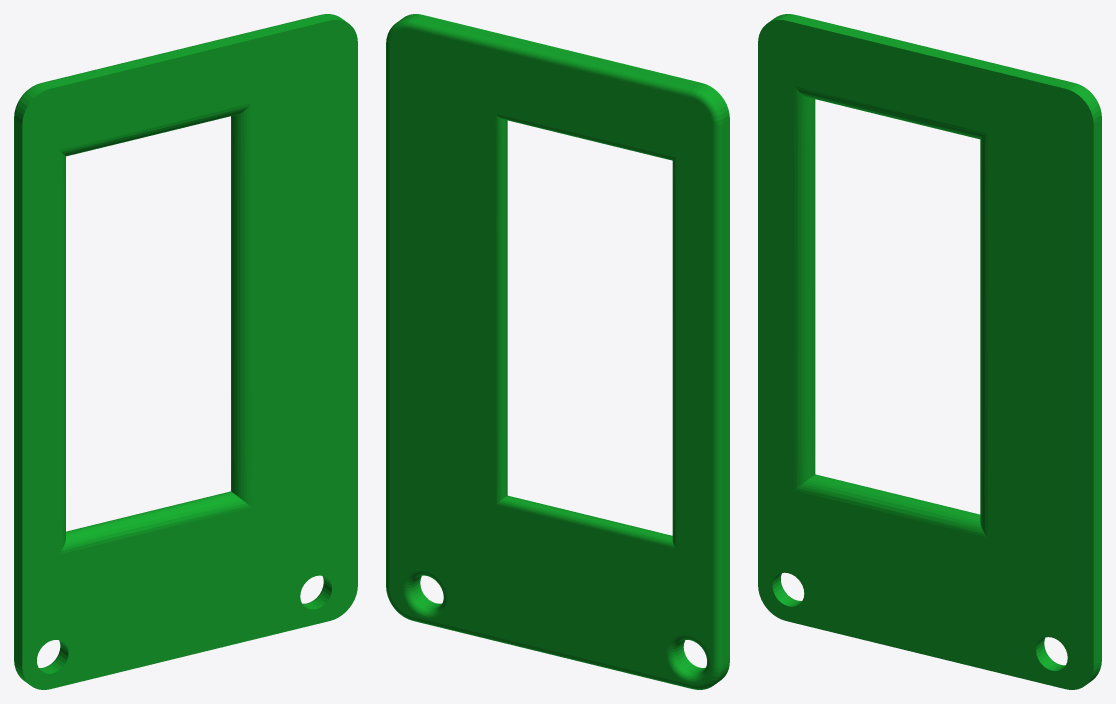
File: cover-3dp-cutout.glb
3 renders of one model, left to right at view 1: azimuth 30°, elevation 25°; view 2: azimuth 150°, elevation 25°; view 3: azimuth 330°, elevation 25°, orthographic.
Size of the model in its own units: 0.0265 by 0.0453 by 0.0015.
